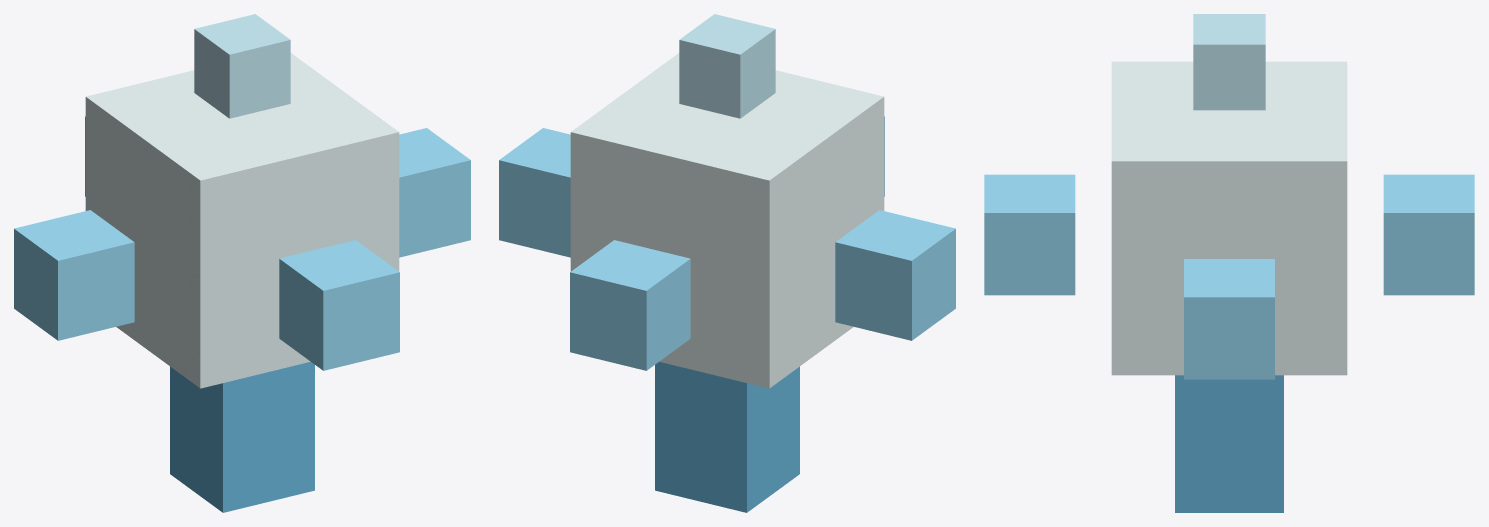
Rendered from wisp.glb.
3 renders of one model, left to right at view 1: azimuth 30°, elevation 25°; view 2: azimuth 150°, elevation 25°; view 3: azimuth 270°, elevation 25°, orthographic. The views are drawn at different scales.
Visible parts, largest first — view 1: body; view 2: body; view 3: body.
Part boxes in pixels (left/top/right/bottom): body: left=14, top=14, right=470, bottom=512; body: left=499, top=14, right=955, bottom=512; body: left=984, top=14, right=1474, bottom=512.
Size of the model in its own units: 0.54 by 0.56 by 0.54.
